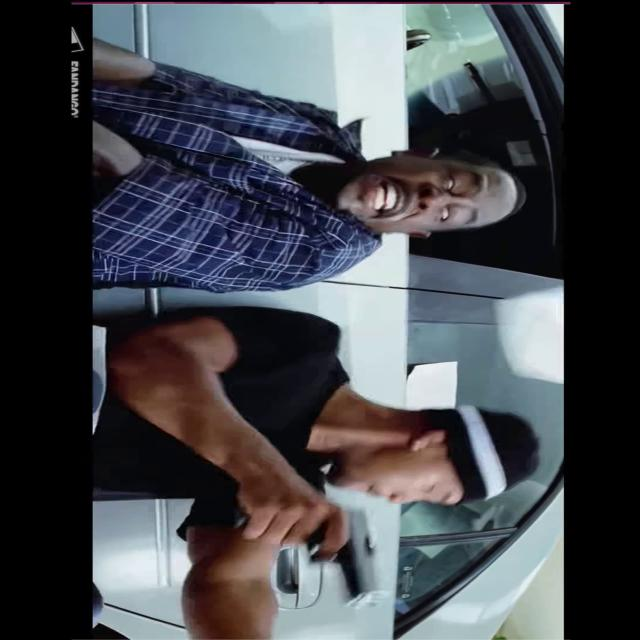weapons: (234, 499, 398, 614)
